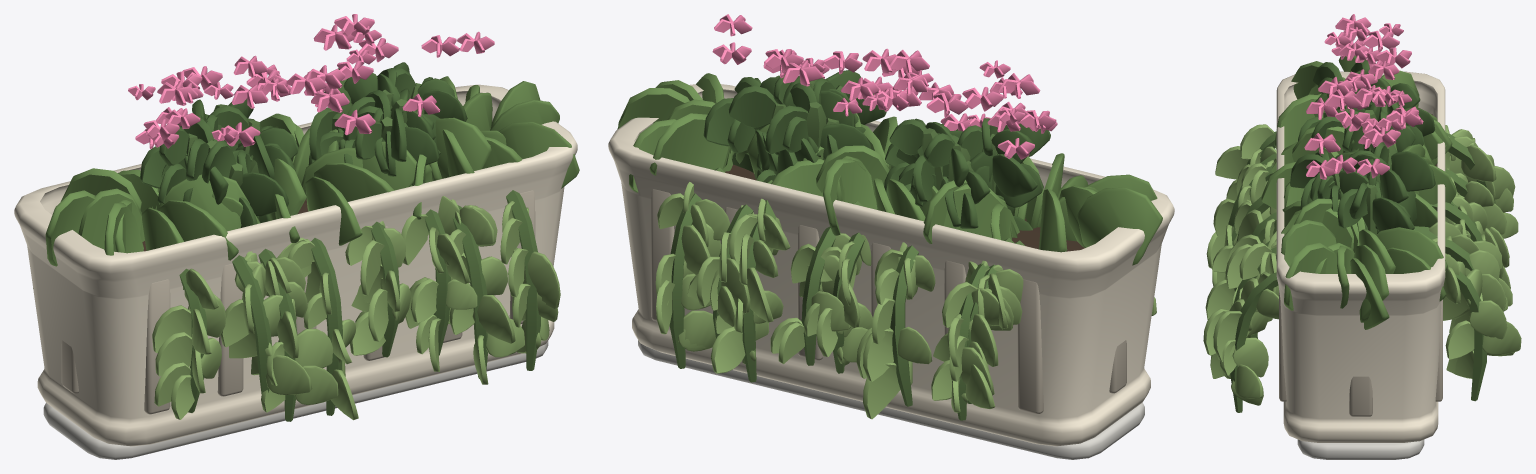
The model's file is jard_deux_faces.glb.
3 renders of one model, left to right at view 1: azimuth 30°, elevation 25°; view 2: azimuth 150°, elevation 25°; view 3: azimuth 270°, elevation 25°, orthographic. The views are drawn at different scales.
Visible parts, largest first — view 1: JRE_Pot_Creme, JRE_Feuille_Clair, JRE_Feuille_Moyen, JRE_Feuille_Fonce, JRE_Fl_Rose, JRE_Tige, JRE_Nervures, JRE_Embase; view 2: JRE_Pot_Creme, JRE_Feuille_Clair, JRE_Feuille_Moyen, JRE_Feuille_Fonce, JRE_Fl_Rose, JRE_Tige, JRE_Nervures, JRE_Embase, JRE_Terre; view 3: JRE_Pot_Creme, JRE_Feuille_Clair, JRE_Feuille_Moyen, JRE_Feuille_Fonce, JRE_Fl_Rose, JRE_Tige, JRE_Embase, JRE_Nervures.
Boxes of the visible parts, bbox=[...] form: JRE_Pot_Creme: bbox=[14, 84, 577, 446]; JRE_Feuille_Clair: bbox=[33, 196, 560, 420]; JRE_Feuille_Moyen: bbox=[45, 76, 579, 266]; JRE_Feuille_Fonce: bbox=[140, 62, 467, 227]; JRE_Fl_Rose: bbox=[128, 14, 494, 148]; JRE_Tige: bbox=[179, 81, 540, 421]; JRE_Nervures: bbox=[61, 190, 535, 414]; JRE_Embase: bbox=[43, 341, 548, 459]; JRE_Pot_Creme: bbox=[608, 84, 1174, 446]; JRE_Feuille_Clair: bbox=[655, 182, 1156, 419]; JRE_Feuille_Moyen: bbox=[617, 73, 1162, 265]; JRE_Feuille_Fonce: bbox=[703, 70, 1050, 233]; JRE_Fl_Rose: bbox=[712, 14, 1057, 159]; JRE_Tige: bbox=[669, 77, 1043, 420]; JRE_Nervures: bbox=[651, 189, 1126, 413]; JRE_Embase: bbox=[638, 340, 1144, 459]; JRE_Terre: bbox=[725, 164, 1084, 251]; JRE_Pot_Creme: bbox=[1276, 71, 1445, 442]; JRE_Feuille_Clair: bbox=[1203, 124, 1521, 405]; JRE_Feuille_Moyen: bbox=[1261, 55, 1456, 329]; JRE_Feuille_Fonce: bbox=[1290, 59, 1435, 233]; JRE_Fl_Rose: bbox=[1304, 14, 1423, 179]; JRE_Tige: bbox=[1228, 79, 1495, 412]; JRE_Embase: bbox=[1297, 439, 1424, 459]; JRE_Nervures: bbox=[1279, 290, 1442, 416].
Bounding box in the file's own units: 1.26 × 0.7638 × 0.7543.
